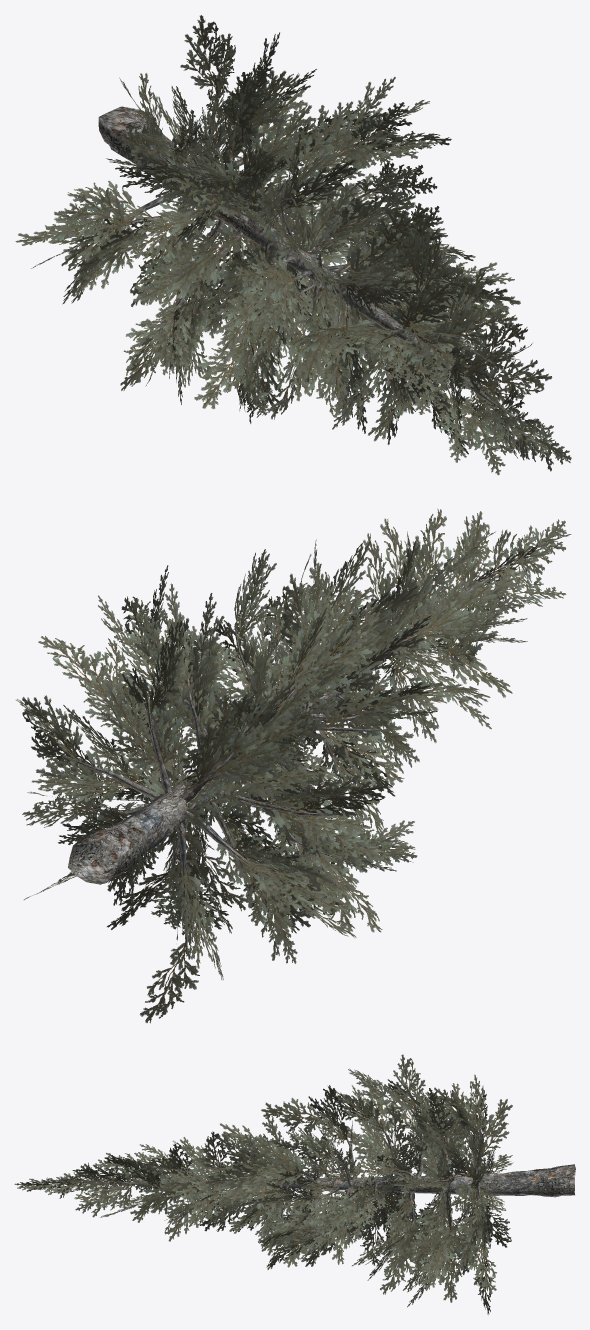
File: spruce_tree.glb
3 views of the same model, one above another, from view 1: azimuth 30°, elevation 25°; view 2: azimuth 150°, elevation 25°; view 3: azimuth 270°, elevation 25° (orthographic). The views are drawn at different scales.
Parts seen in each view (by area): view 1: Spruce_LOD0; view 2: Spruce_LOD0; view 3: Spruce_LOD0.
Boxes of the visible parts, box(x1,y1,x2,y2) form: Spruce_LOD0: box(15, 15, 571, 475); Spruce_LOD0: box(16, 508, 571, 1023); Spruce_LOD0: box(14, 1054, 575, 1314).
Size of the model in its own units: 8.42 by 8.1 by 17.42.
Materials: 2 (2 with a texture image).
